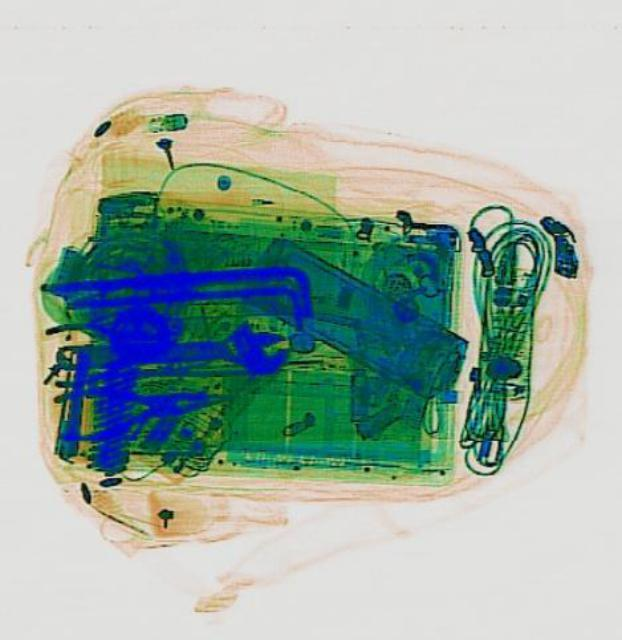Pliers: (49, 370, 232, 442)
Wrench: (50, 316, 287, 384)
